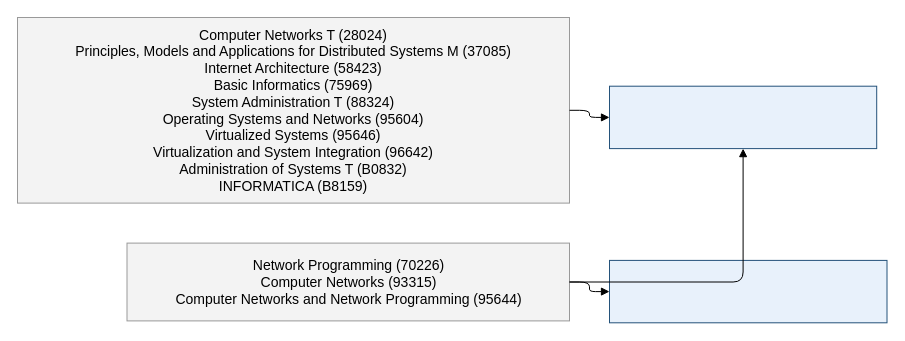
Image size: 905x341. Some labels were removed from this diagram. The shapes that lost their labels are listed below. From the top down, each one's centre as x and y in pixels, then its label:
(742,117): Network Services and Control 3 ECTS
(747,291): Transport Services and Control 3 ECTS
